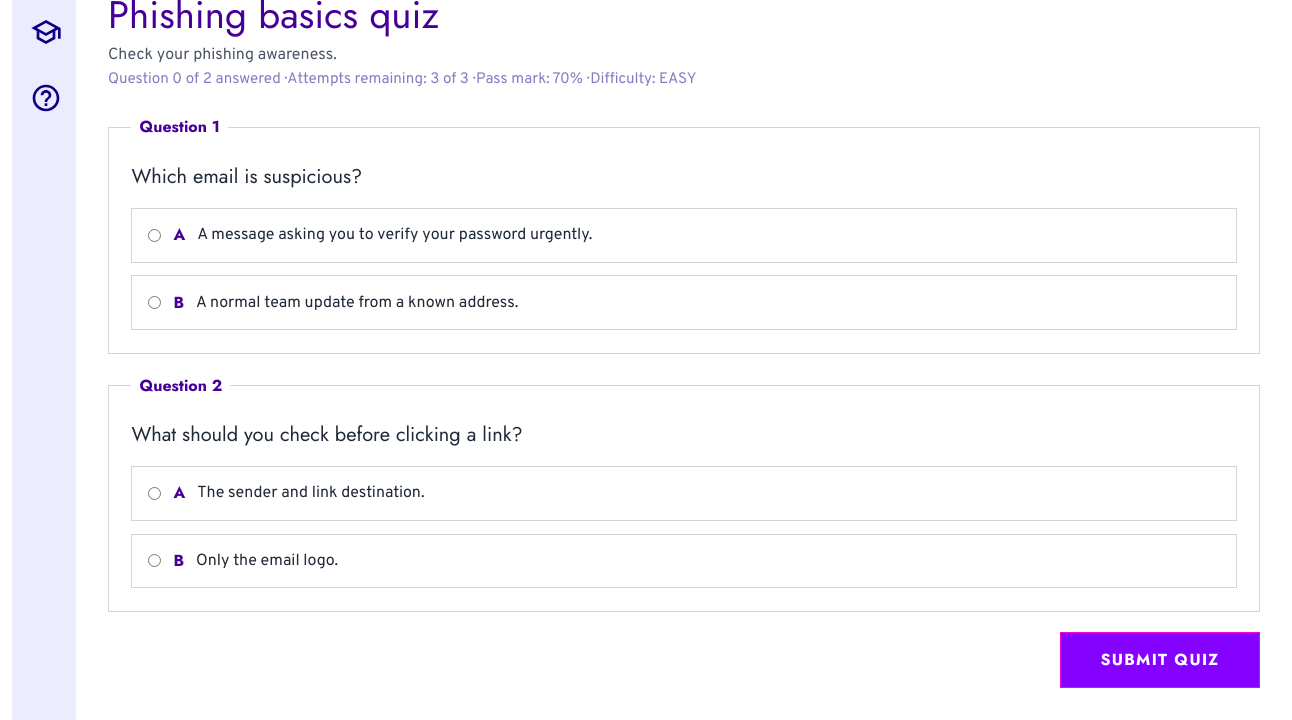
Test case: QuizPage › shows validation when submitting with unanswered questions
(page scrolled)
Click the button "Submit Quiz" at coordinates (1160, 660), box x1=1060 y1=632 x2=1260 y2=688
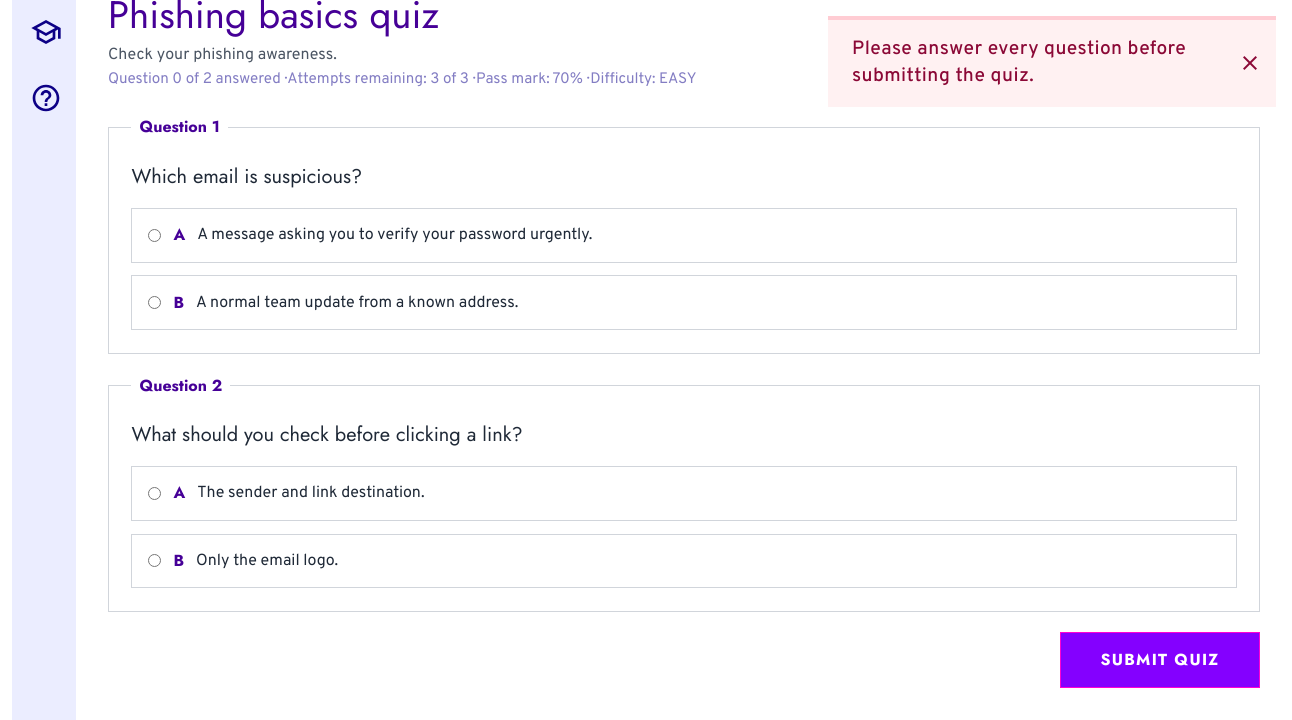
Result: the text "Please answer every question before submitting the quiz." is shown at x1=852 y1=36 x2=1234 y2=91
